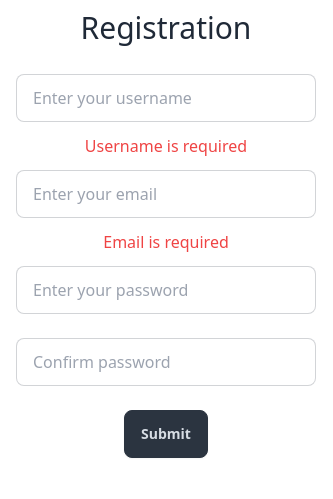
Test: Registration Form test suite › checks if password is empty
Step 1. Clear the password field with placeholder "Enter your password" → (166, 290), box [16,266,316,314]
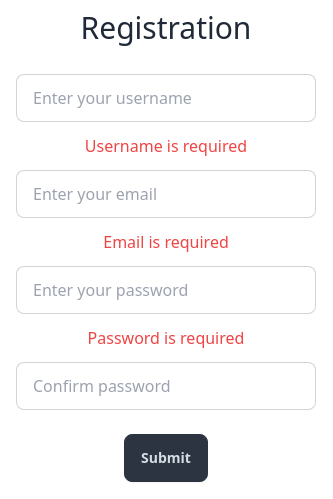
Expected: the text "Password is required" is shown, [88,326,244,350]
